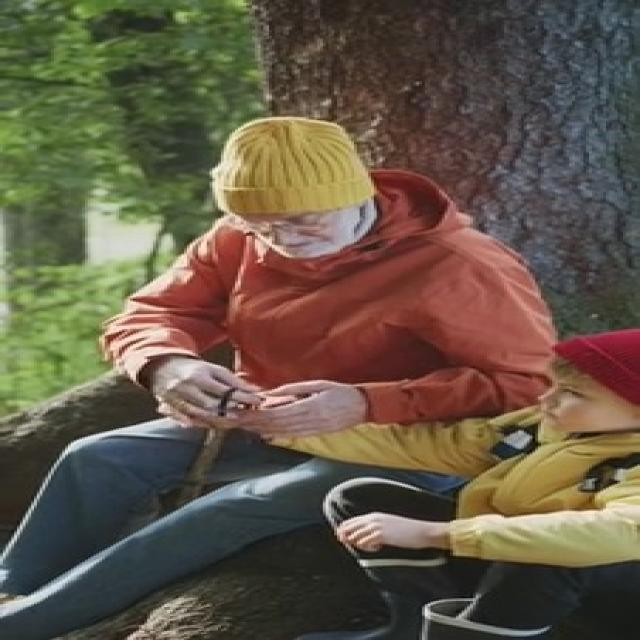Jacket_Wearer: (108, 195, 586, 463)
Person: (98, 99, 482, 479)
